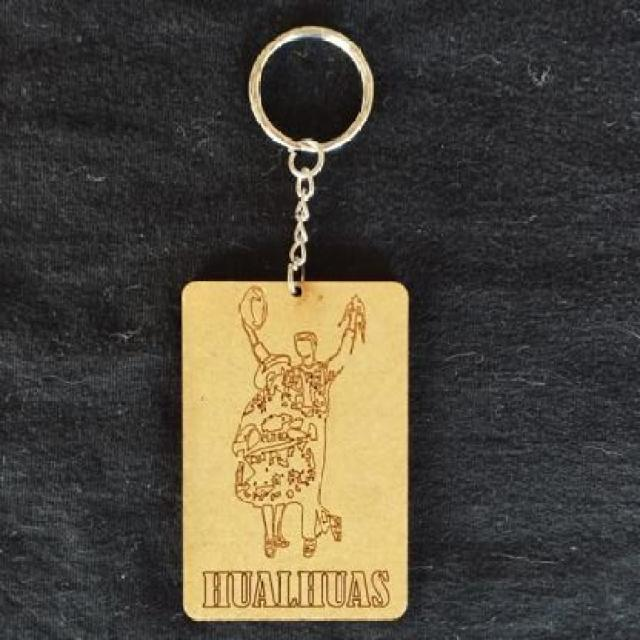Llavero: (229, 286, 366, 560)
